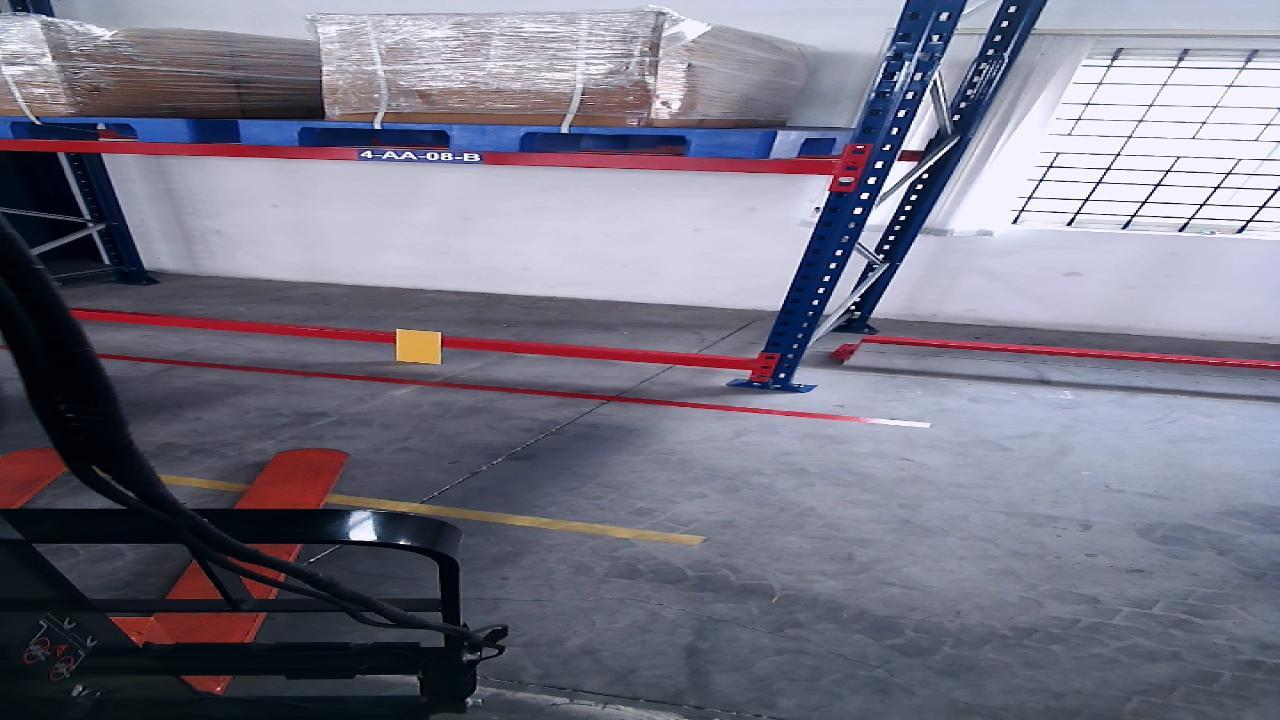h_rack: (71, 312, 750, 370), (0, 138, 831, 176)
orange_strip: (395, 330, 439, 365)
red_line: (98, 353, 927, 428)
small_pallet: (237, 121, 775, 158)
yellow_line: (166, 472, 710, 549)
